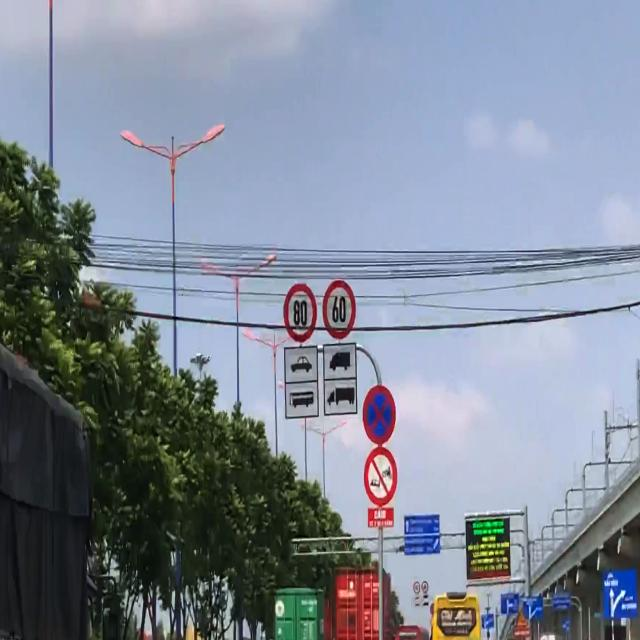Cam con lai: (363, 446, 398, 508)
Cam dung va do: (362, 383, 396, 444)
Toc do toi da: (282, 281, 318, 343), (322, 278, 357, 340)
